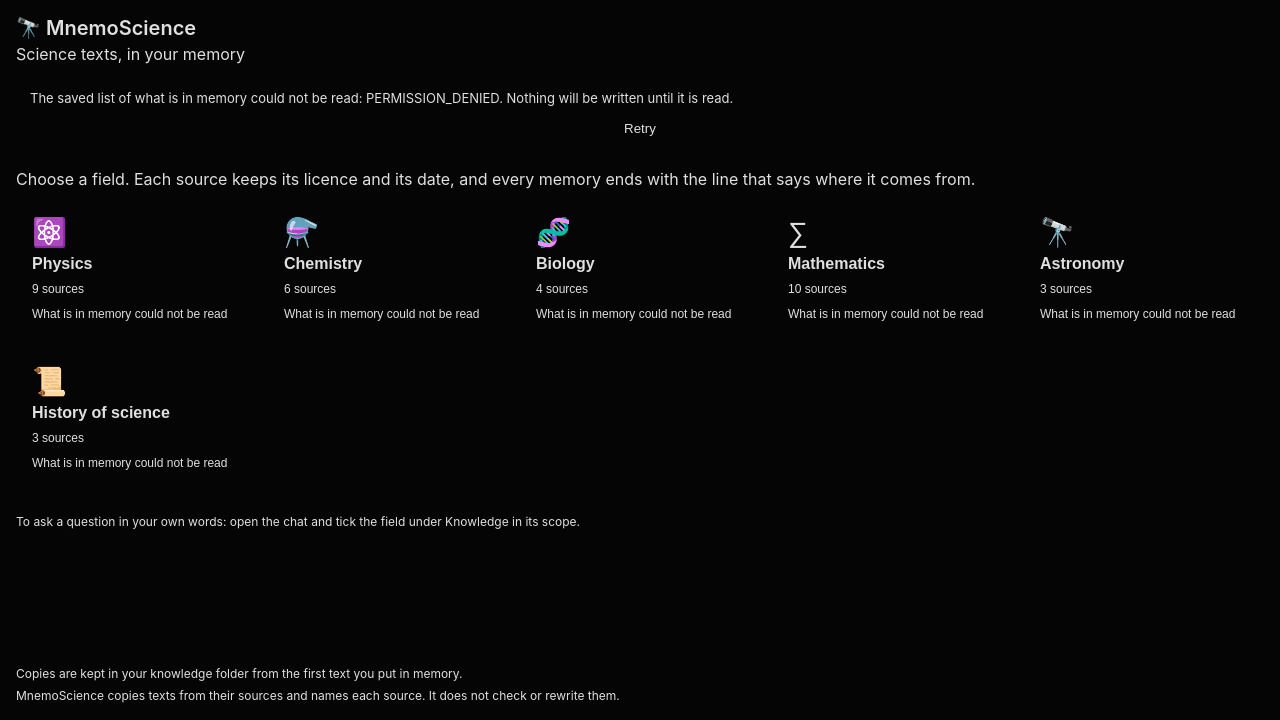
Test: App with a bridge whose state.get fails › writes NOTHING over the unread library, says so, and offers a retry
Expected: the message shows "could not be read: PERMISSION_DENIED", 30,90 -> 733,106
Expected: the text "What is in memory could not be read" is shown 6 times, 32,306 -> 227,324; 284,306 -> 479,324; 536,306 -> 731,324; 788,306 -> 983,324; 1040,306 -> 1235,324; 32,455 -> 227,473
Click the button "Retry". click: (640, 128)
box: 30,116 -> 1250,141
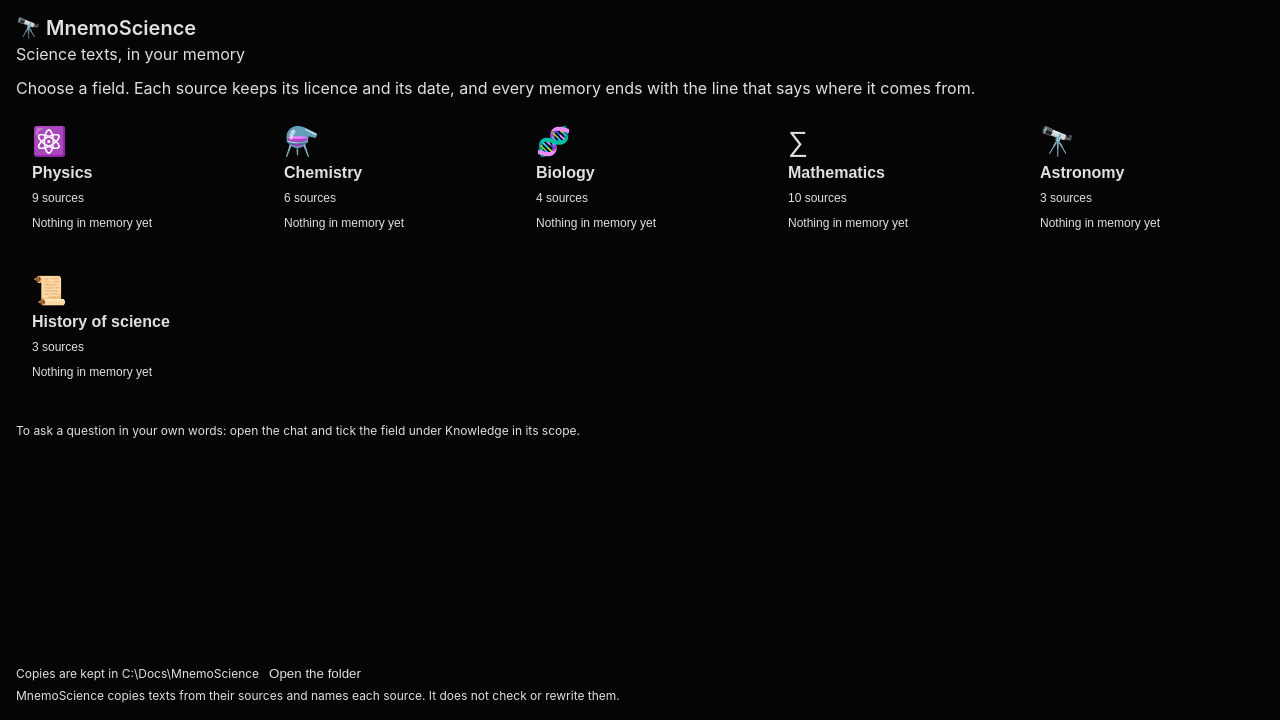
Expected: the text "Nothing in memory yet" is shown 6 times, 32,215 -> 152,233; 284,215 -> 404,233; 536,215 -> 656,233; 788,215 -> 908,233; 1040,215 -> 1160,233; 32,364 -> 152,382
Expected: the message is gone
